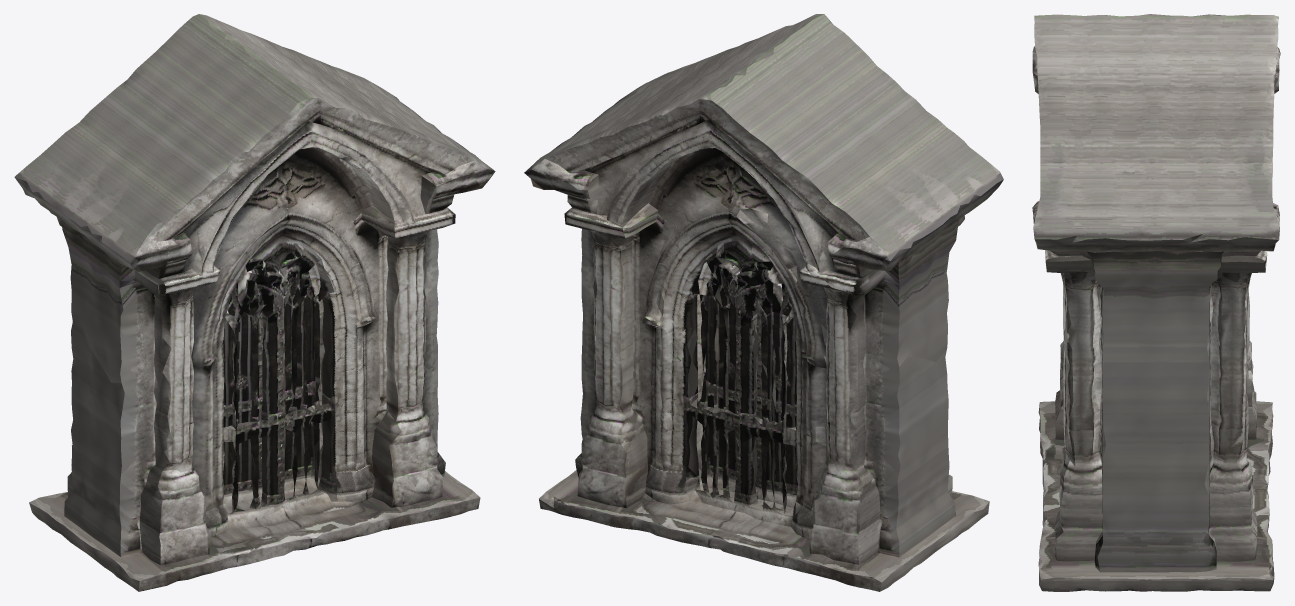
File: mausoleum.glb
3 renders of one model, left to right at view 1: azimuth 30°, elevation 25°; view 2: azimuth 150°, elevation 25°; view 3: azimuth 270°, elevation 25°, orthographic. The views are drawn at different scales.
Visible parts, largest first — view 1: geometry_0; view 2: geometry_0; view 3: geometry_0.
Boxes of the visible parts, x1,y1,x2,y2 form: geometry_0: (14,14,495,591); geometry_0: (524,14,1003,591); geometry_0: (1032,14,1280,591).
Bounding box in the file's own units: 3.37 × 4 × 1.84.
Materials: 1 (1 with a texture image).
